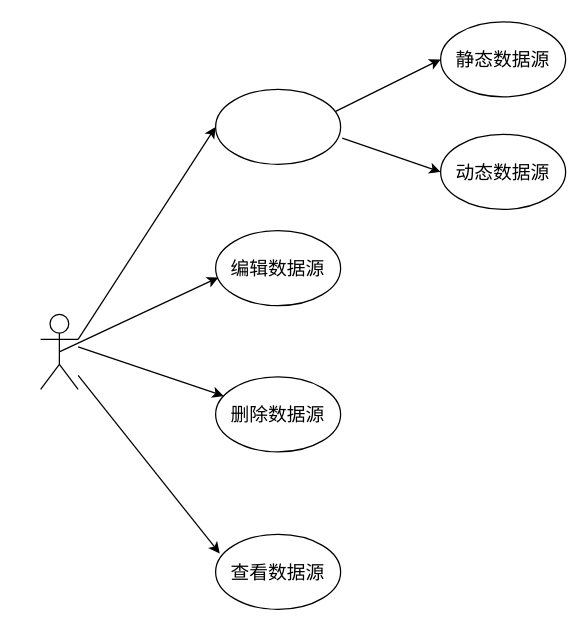
The diagram is 588 pixels wide and 631 high, and some of its shapes have lost their labels. The box of each missing label's shape, as (x1, y1, x2, y2) in pixels:
新增数据源: (214, 88, 341, 164)
系统用户: (39, 313, 78, 389)
